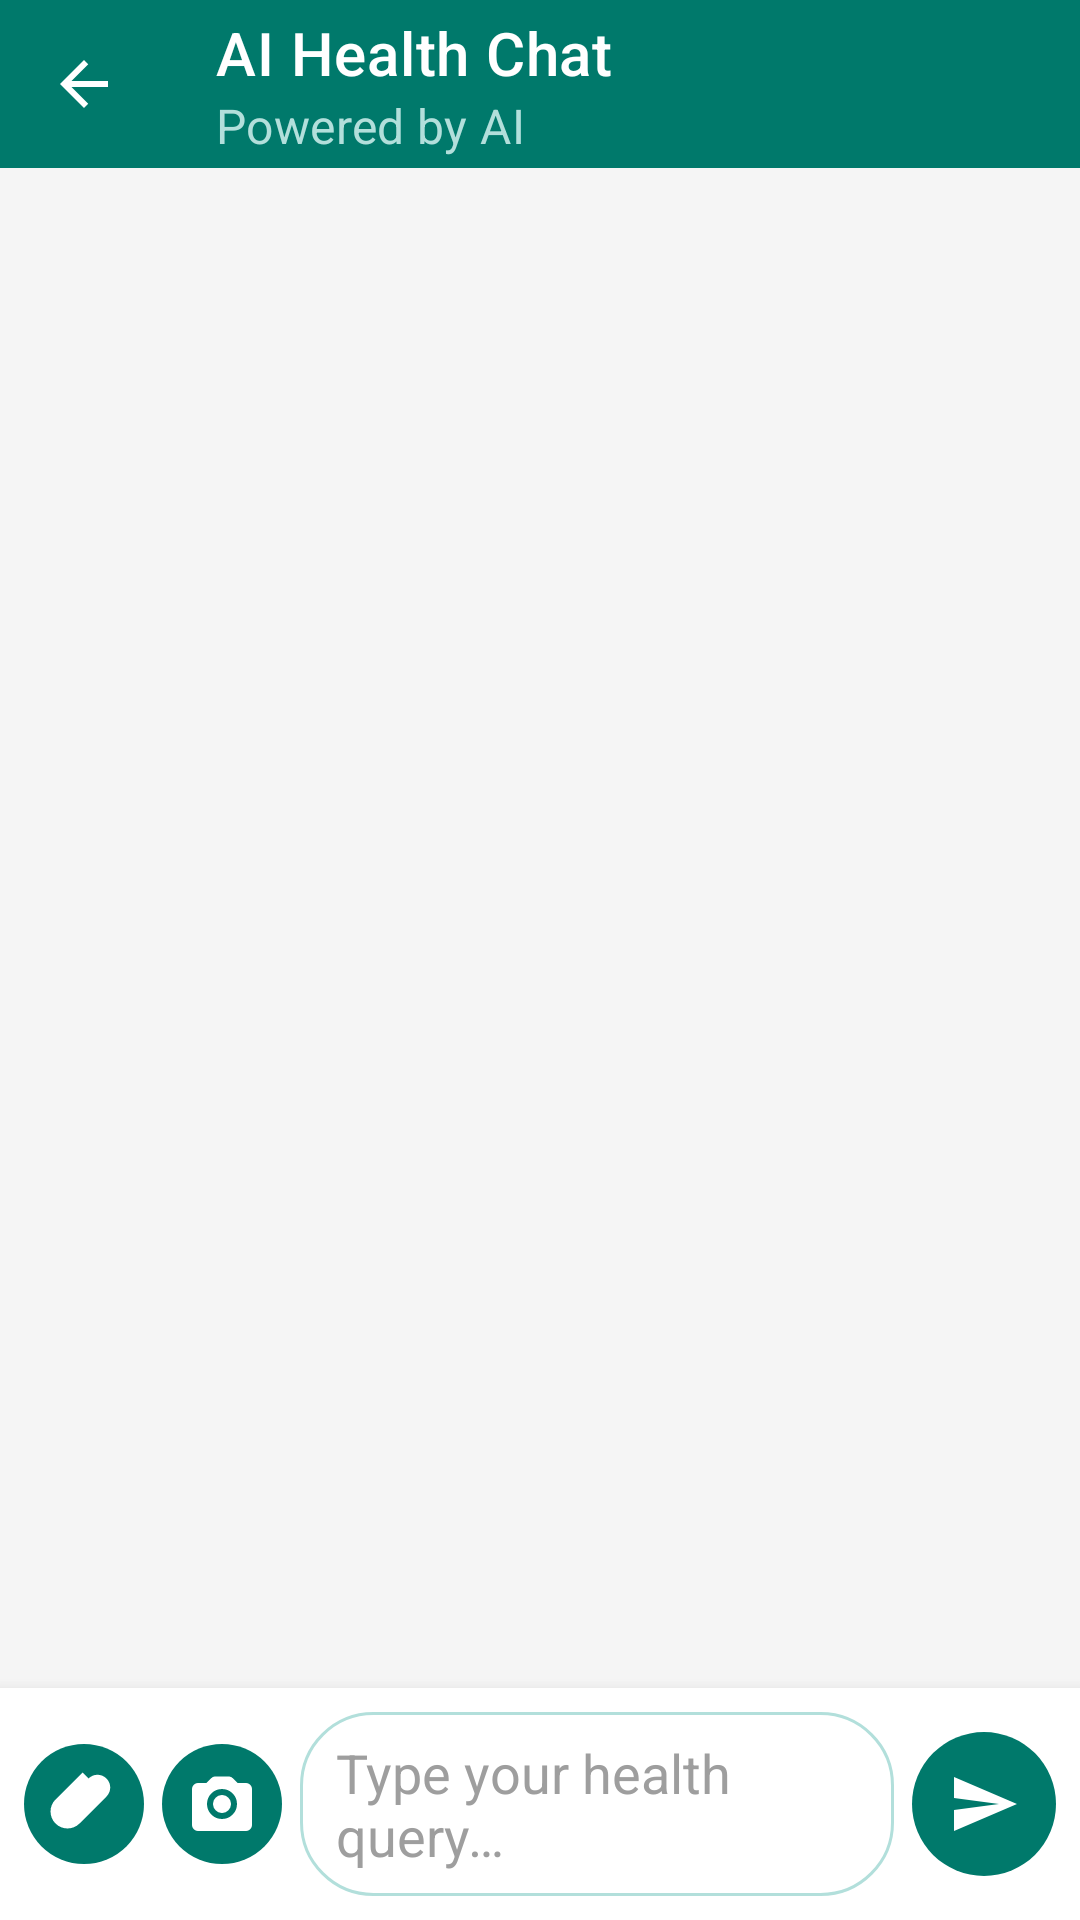

Point at icon controls on the screen. Image size 1080px x 1920px, points as point (x, y).
Camera: point (222, 1804)
send: point (984, 1804)
